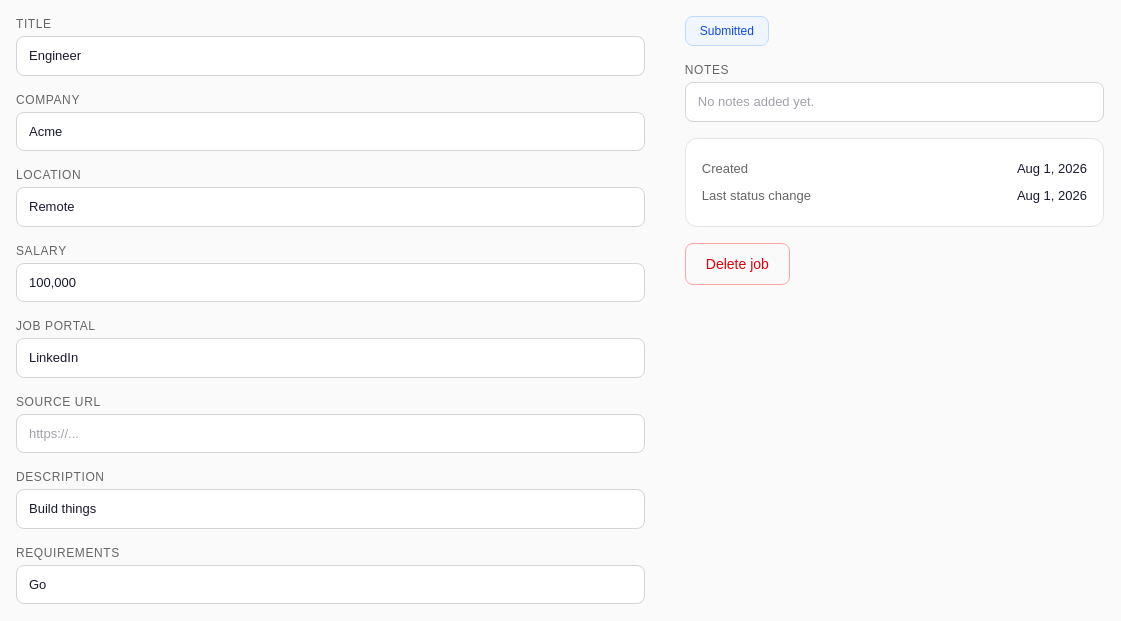
Test: JobEditor delete confirm › arms the confirm on first click without deleting
Click the button "Delete job" at (737, 264), box [685,242,790,284]
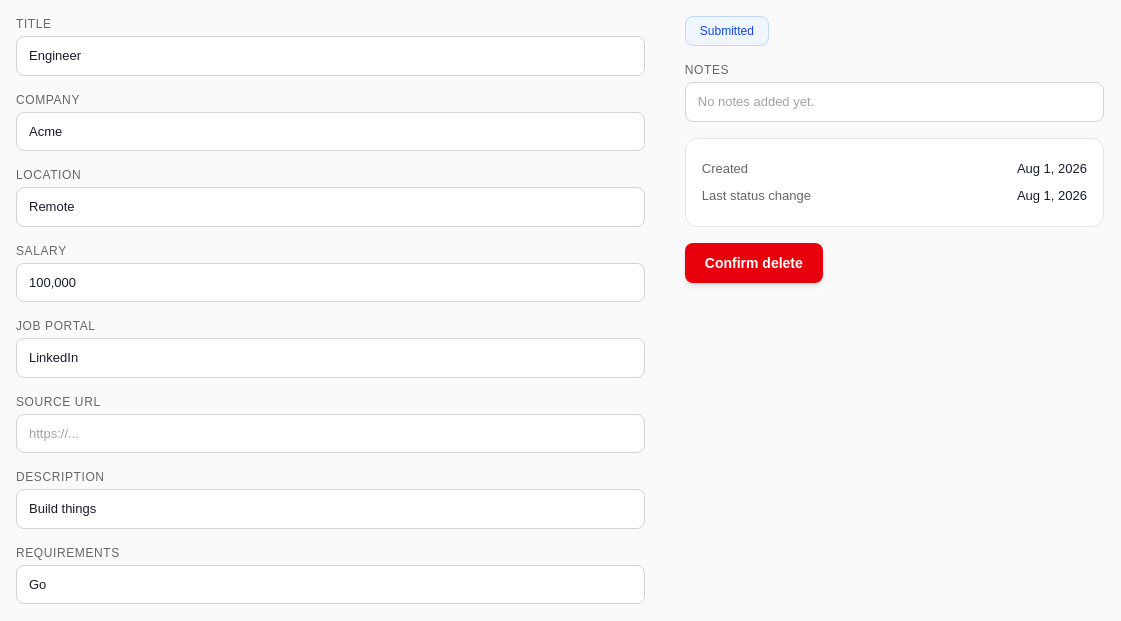
Expected: the element with test id "confirm-countdown" is shown, [685,242,823,282]
